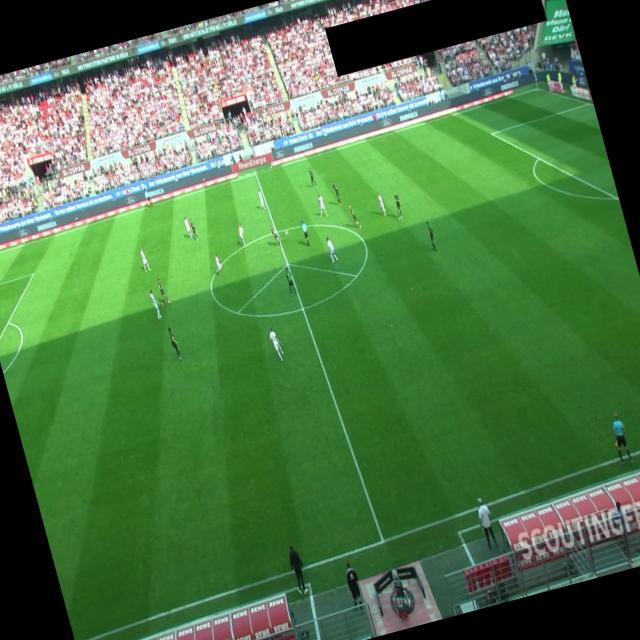ball: (283, 228, 290, 238)
player: (266, 324, 286, 362), (166, 324, 182, 362), (155, 276, 171, 306), (148, 287, 162, 320), (283, 266, 297, 296), (425, 220, 438, 252), (390, 190, 404, 219), (325, 234, 339, 263), (348, 202, 362, 228), (314, 192, 328, 218), (268, 222, 283, 246), (138, 246, 151, 272), (331, 180, 343, 207), (182, 214, 194, 240), (235, 222, 248, 246), (375, 191, 387, 217), (188, 215, 199, 240), (254, 188, 266, 210), (213, 252, 224, 274), (308, 168, 316, 188)
referee: (606, 410, 634, 466), (140, 184, 154, 208), (300, 218, 312, 245)
